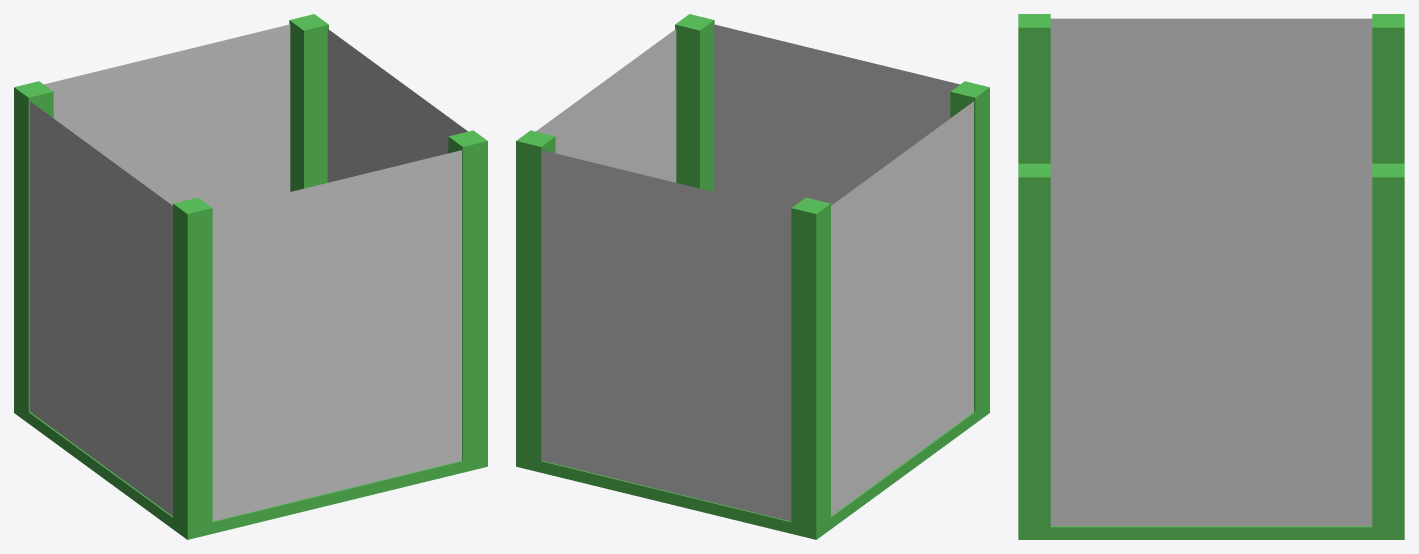
The model's file is Cage 1.fbx.
3 renders of one model, left to right at view 1: azimuth 30°, elevation 25°; view 2: azimuth 150°, elevation 25°; view 3: azimuth 270°, elevation 25°, orthographic. The views are drawn at different scales.
Parts seen in each view (by area): view 1: Walls; view 2: Walls; view 3: Walls.
Part boxes in pixels (<box>): Walls: <box>14,14,487,539</box>; Walls: <box>516,14,989,539</box>; Walls: <box>1018,14,1404,539</box>.
Bounding box in the file's own units: 200 × 207 × 200.
